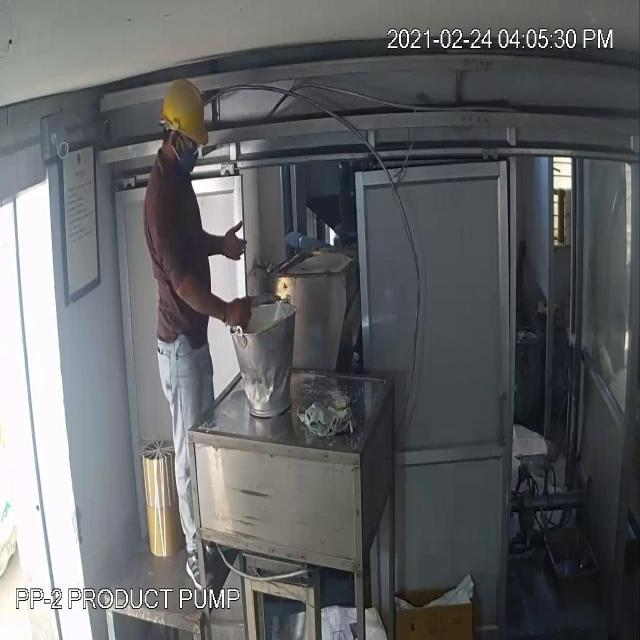helmet: (154, 77, 216, 151)
